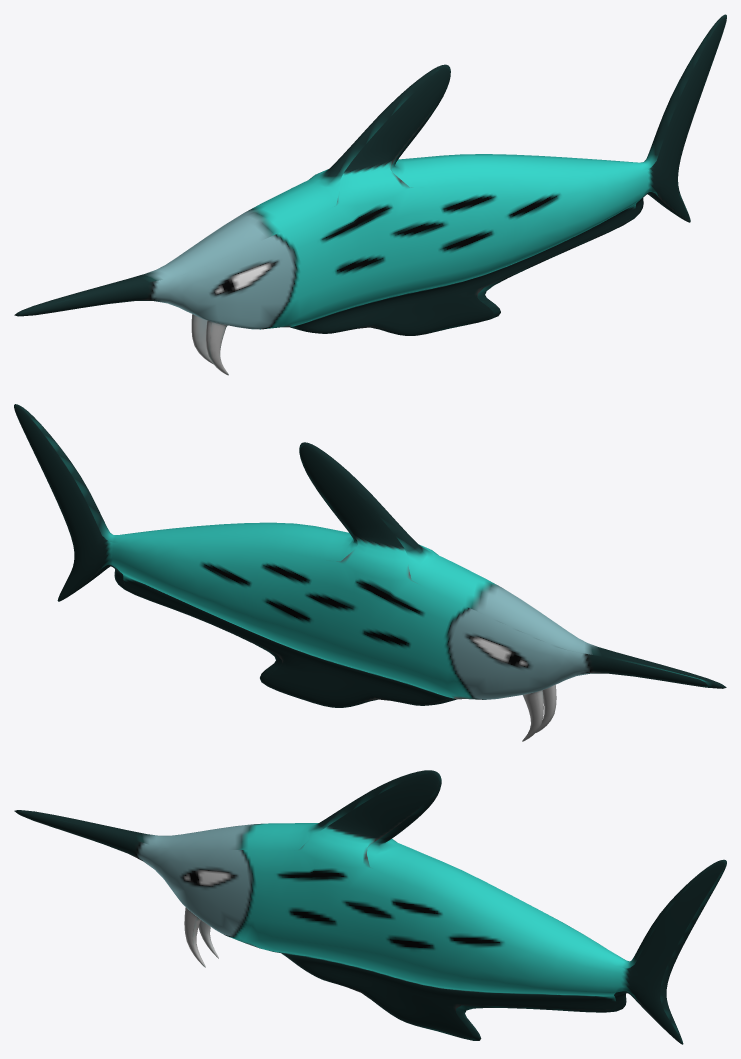
The model's file is fish-1.obj.
3 renders of one model, top to bottom at view 1: azimuth 30°, elevation 25°; view 2: azimuth 150°, elevation 25°; view 3: azimuth 330°, elevation 25°, orthographic. The views are drawn at different scales.
Parts seen in each view (by area): view 1: Fish.000_Cube.1536; view 2: Fish.000_Cube.1536; view 3: Fish.000_Cube.1536.
Part boxes in pixels (left/top/right/bottom): Fish.000_Cube.1536: left=14, top=14, right=726, bottom=375; Fish.000_Cube.1536: left=14, top=404, right=726, bottom=741; Fish.000_Cube.1536: left=14, top=770, right=726, bottom=1044.
Size of the model in its own units: 5.45 by 1.91 by 0.6036.
Materials: 1 (1 with a texture image).
